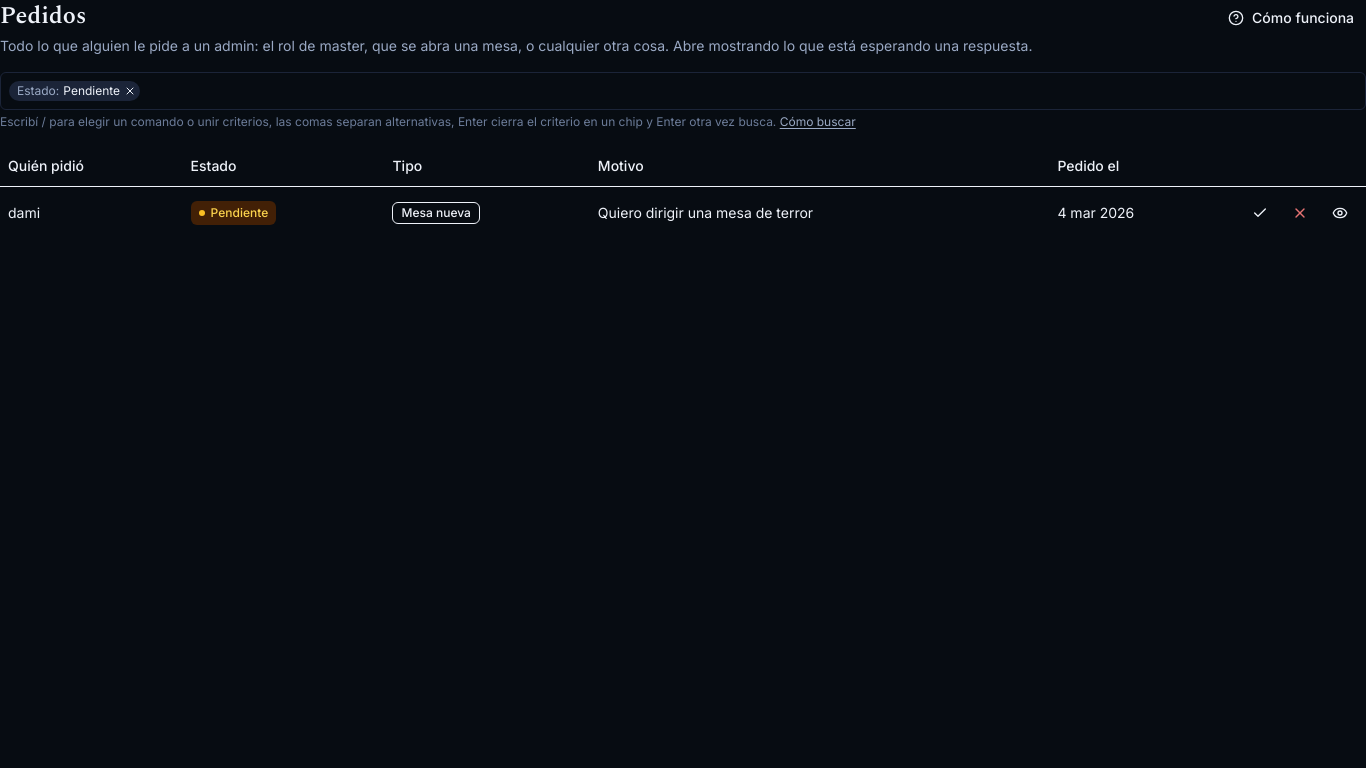
Test case: AdminRequestsPage › says what approving this particular kind will do
The image size is (1366, 768).
Click the button named "Aprobar". click: [1260, 212]
box: [1242,194,1278,230]
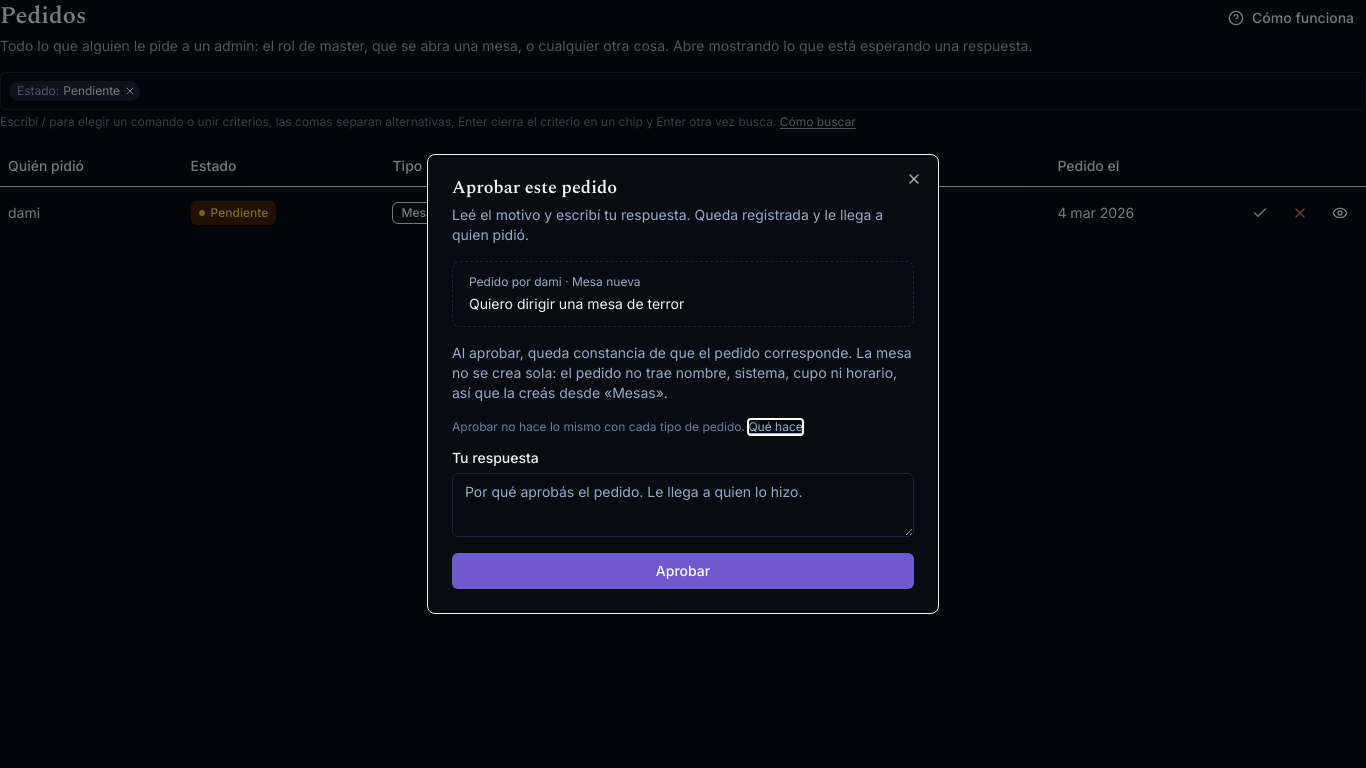
Now the text "La mesa no se crea sola" is shown, box [452,344,912,401]
